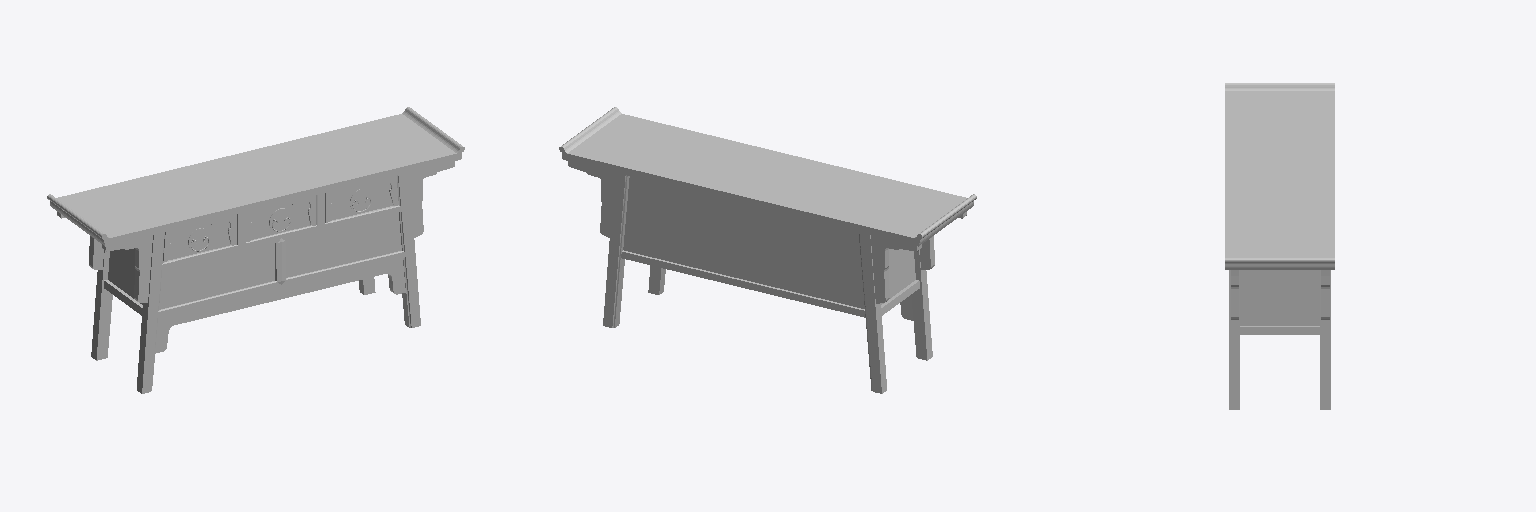
Rendered from chinese_commode_4k.obj.
3 views of the same model, side by side, from view 1: azimuth 30°, elevation 25°; view 2: azimuth 150°, elevation 25°; view 3: azimuth 270°, elevation 25° (orthographic).
Parts seen in each view (by area): view 1: chinese_commode, chinese_commode_drawer_03, chinese_commode_drawer_01, chinese_commode_drawer_02; view 2: chinese_commode; view 3: chinese_commode.
Boxes of the visible parts, x1=… form: chinese_commode: x1=47, y1=107, x2=464, y2=393; chinese_commode_drawer_03: x1=325, y1=176, x2=398, y2=222; chinese_commode_drawer_01: x1=163, y1=215, x2=235, y2=262; chinese_commode_drawer_02: x1=246, y1=195, x2=315, y2=241; chinese_commode: x1=559, y1=107, x2=976, y2=393; chinese_commode: x1=1225, y1=83, x2=1334, y2=409.
Bounding box in the file's own units: 4.49 × 2.02 × 1.17.